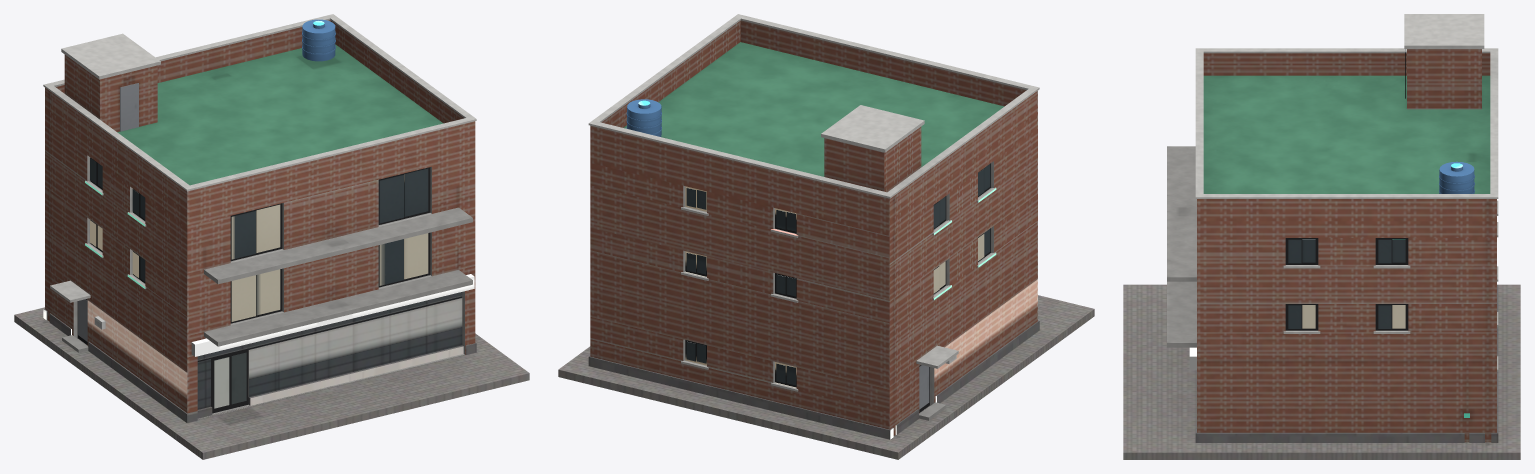
The model's file is IlsanShop01_LOD2.fbx.
3 views of the same model, side by side, from view 1: azimuth 30°, elevation 25°; view 2: azimuth 150°, elevation 25°; view 3: azimuth 270°, elevation 25° (orthographic). The views are drawn at different scales.
Visible parts, largest first — view 1: IlsanShop01_LOD2; view 2: IlsanShop01_LOD2; view 3: IlsanShop01_LOD2.
Part boxes in pixels (x1,y1,x2,y2): IlsanShop01_LOD2: (14, 14, 529, 459); IlsanShop01_LOD2: (558, 14, 1094, 459); IlsanShop01_LOD2: (1123, 14, 1520, 459).
Size of the model in its own units: 15.95 by 12.95 by 15.9.
Materials: 1 (1 with a texture image).
